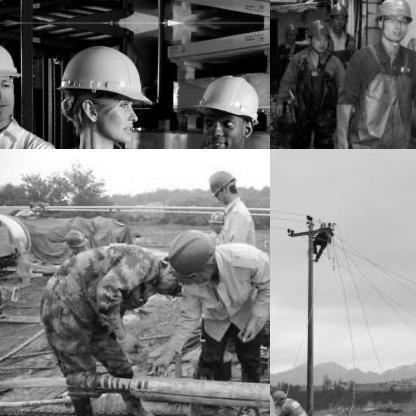Helmet: (46, 29, 157, 148), (189, 60, 269, 148), (162, 225, 218, 285), (0, 22, 25, 134), (373, 0, 416, 44), (45, 0, 158, 15), (204, 165, 238, 203), (303, 16, 330, 50), (326, 0, 351, 31), (62, 228, 86, 252), (206, 209, 228, 235), (270, 386, 289, 406), (282, 19, 296, 40)
